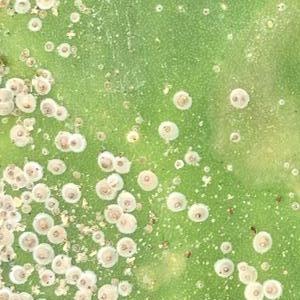Femea: (21, 149, 57, 181), (119, 194, 135, 210), (103, 180, 118, 197), (139, 173, 156, 187), (18, 235, 36, 248), (13, 268, 28, 283), (26, 93, 42, 107), (38, 183, 54, 197), (32, 218, 49, 231), (63, 188, 77, 203), (15, 77, 29, 92), (33, 250, 49, 263), (45, 162, 63, 173), (69, 135, 82, 150), (13, 125, 24, 142), (77, 273, 90, 287), (114, 156, 126, 171), (0, 287, 13, 299), (100, 252, 113, 264), (117, 239, 129, 252), (97, 157, 110, 169), (54, 107, 66, 120), (161, 121, 173, 134), (35, 81, 47, 93), (219, 262, 231, 274), (52, 258, 65, 269), (96, 288, 109, 299), (170, 200, 183, 211), (13, 0, 27, 10), (39, 273, 51, 284), (264, 284, 276, 295), (42, 40, 53, 52), (49, 229, 62, 239), (193, 209, 203, 222), (228, 133, 241, 143), (59, 137, 68, 151), (250, 287, 262, 297), (28, 19, 40, 29), (68, 272, 80, 281), (258, 240, 268, 250), (173, 158, 184, 167), (5, 211, 19, 218), (59, 44, 68, 54), (129, 133, 138, 142), (3, 222, 13, 230), (92, 233, 101, 241), (3, 202, 11, 210), (156, 4, 163, 11), (278, 3, 286, 9), (41, 149, 47, 155), (202, 8, 208, 13), (291, 169, 297, 174)
Linfa: (171, 227, 180, 254), (191, 247, 220, 254), (226, 278, 237, 291), (237, 213, 249, 223), (226, 193, 234, 199), (210, 218, 215, 223), (194, 189, 200, 193)
